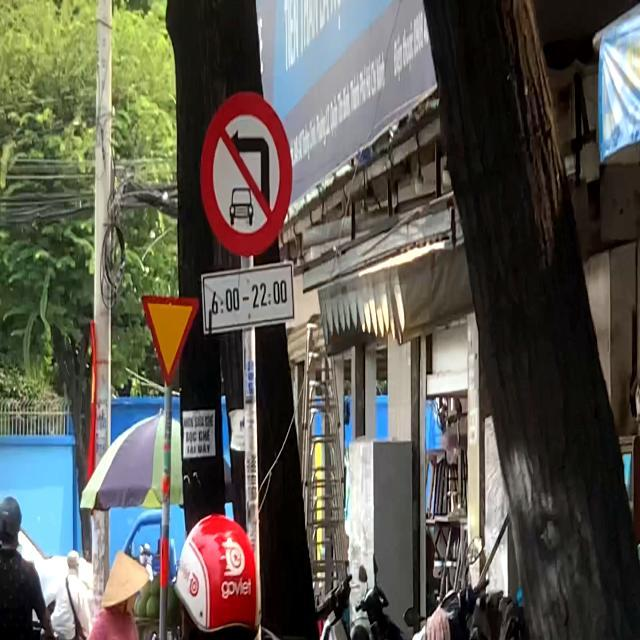W-208: (142, 292, 198, 382)
